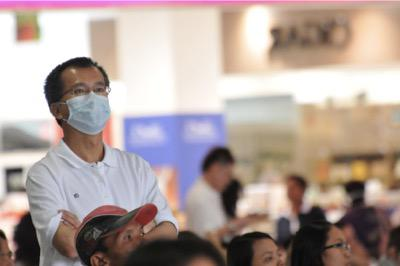with_mask: (59, 80, 110, 135)
without_mask: (321, 237, 352, 266), (253, 248, 283, 266)
